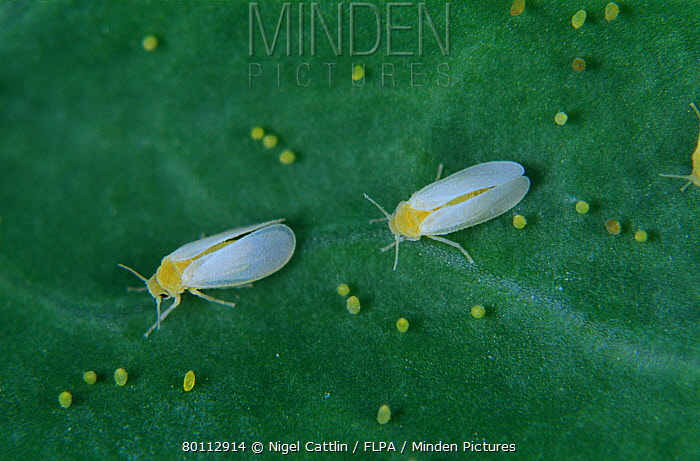Tobacco Whitefly: (376, 137, 532, 270), (115, 212, 302, 312)
